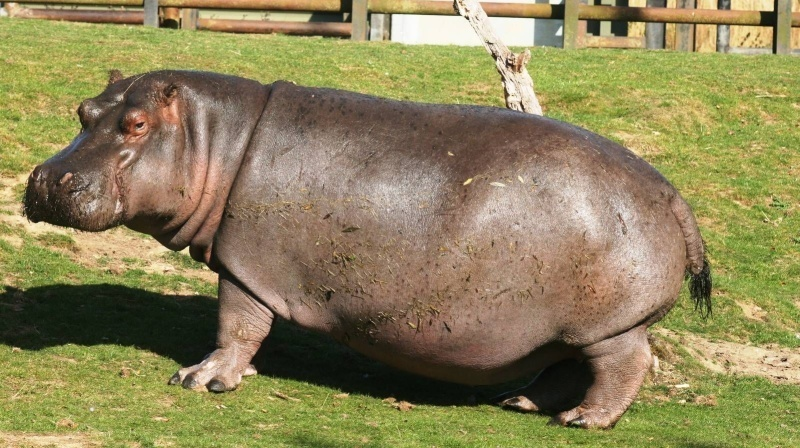hipopotamo: (12, 56, 715, 436)
